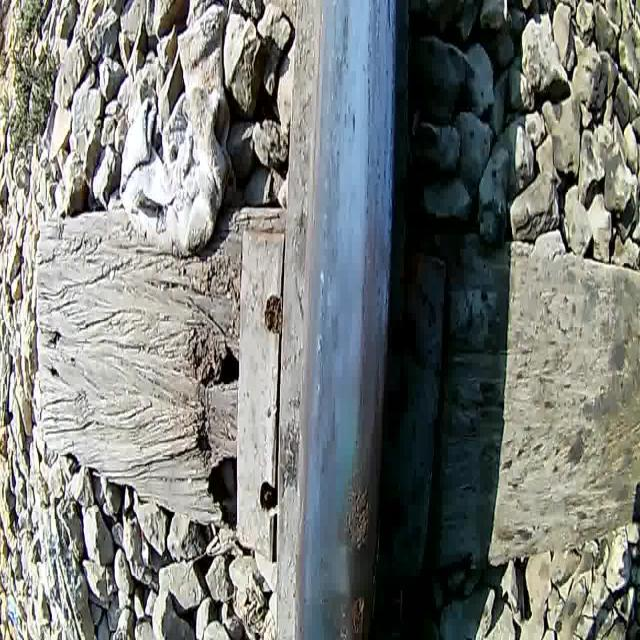Cracks: (382, 0, 396, 41)
Spallings: (343, 478, 374, 554), (349, 589, 366, 640)
Squats: (330, 466, 378, 558), (316, 581, 374, 640)
